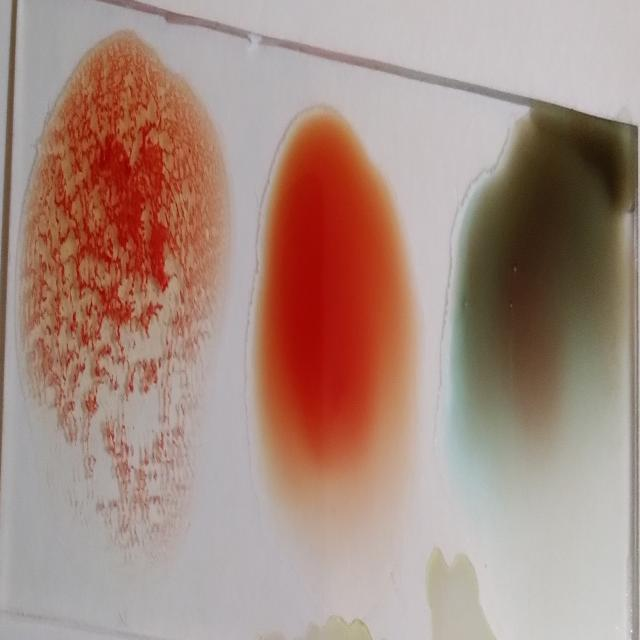D: (21, 36, 218, 542)
